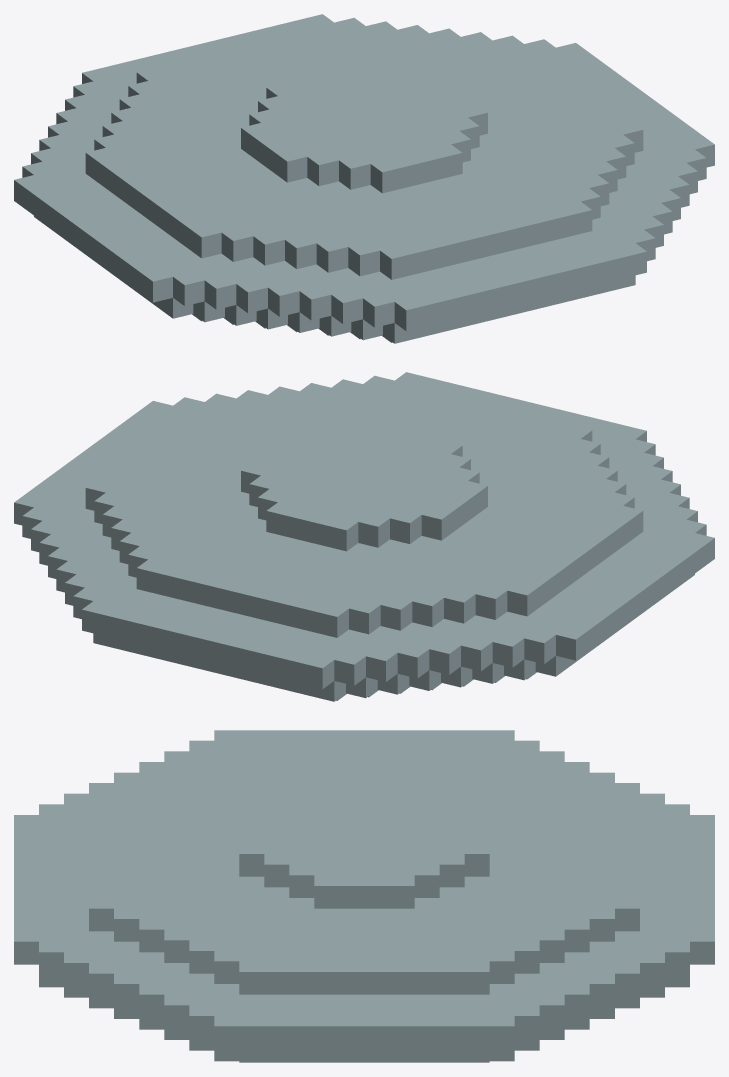
The model's file is lens_crude.glb.
The picture shows the model from 3 angles, top to bottom: view 1: azimuth 30°, elevation 25°; view 2: azimuth 150°, elevation 25°; view 3: azimuth 270°, elevation 25°; orthographic projection. The views are drawn at different scales.
Parts seen in each view (by area): view 1: lens_crude:compound; view 2: lens_crude:compound; view 3: lens_crude:compound.
Part boxes in pixels (box(x1,y1,x2,y2)): lens_crude:compound: box(14, 14, 714, 343); lens_crude:compound: box(14, 372, 714, 701); lens_crude:compound: box(14, 730, 714, 1062).
Bounding box in the file's own units: 0.056 × 0.012 × 0.056.
